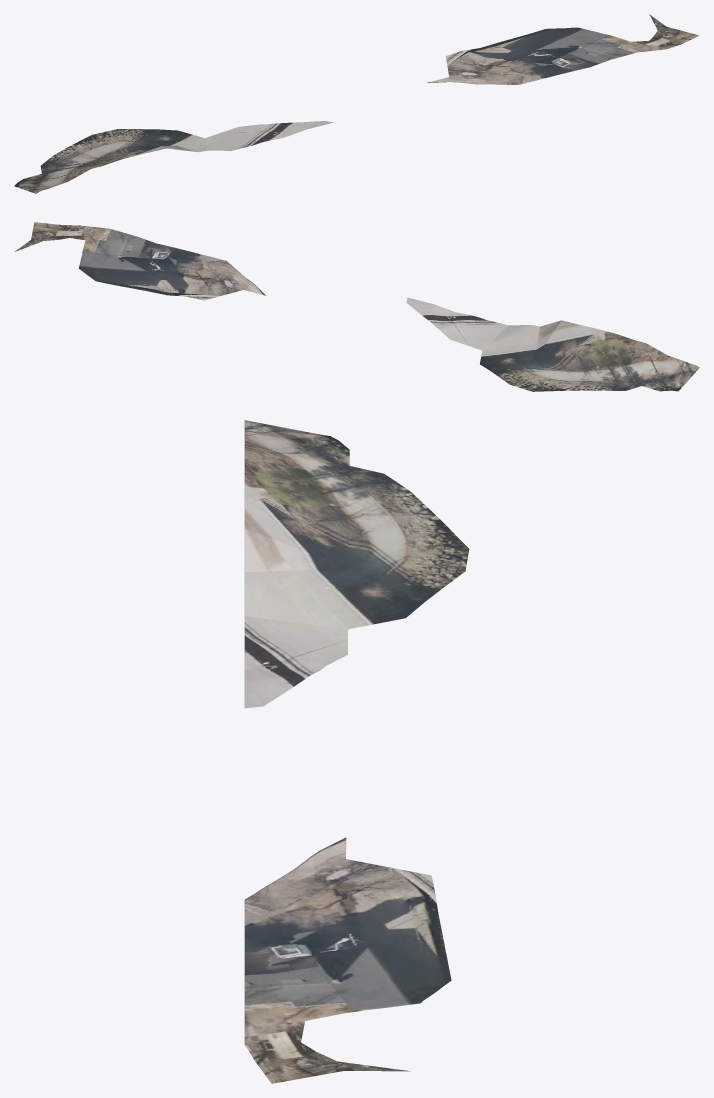
The model's file is CM_Terrain_24486773_6821841.fbx.
3 renders of one model, top to bottom at view 1: azimuth 30°, elevation 25°; view 2: azimuth 150°, elevation 25°; view 3: azimuth 270°, elevation 25°, orthographic. The views are drawn at different scales.
Visible parts, largest first — view 1: CM_Terrain_24486773_6821841_LOD0; view 2: CM_Terrain_24486773_6821841_LOD0; view 3: CM_Terrain_24486773_6821841_LOD0.
Boxes of the visible parts, x1,y1,x2,y2 form: CM_Terrain_24486773_6821841_LOD0: (14, 14, 699, 193); CM_Terrain_24486773_6821841_LOD0: (15, 222, 699, 391); CM_Terrain_24486773_6821841_LOD0: (244, 420, 469, 1083).
Size of what is drawn, in the model's own units: 177 by 6.41 by 26.19.
